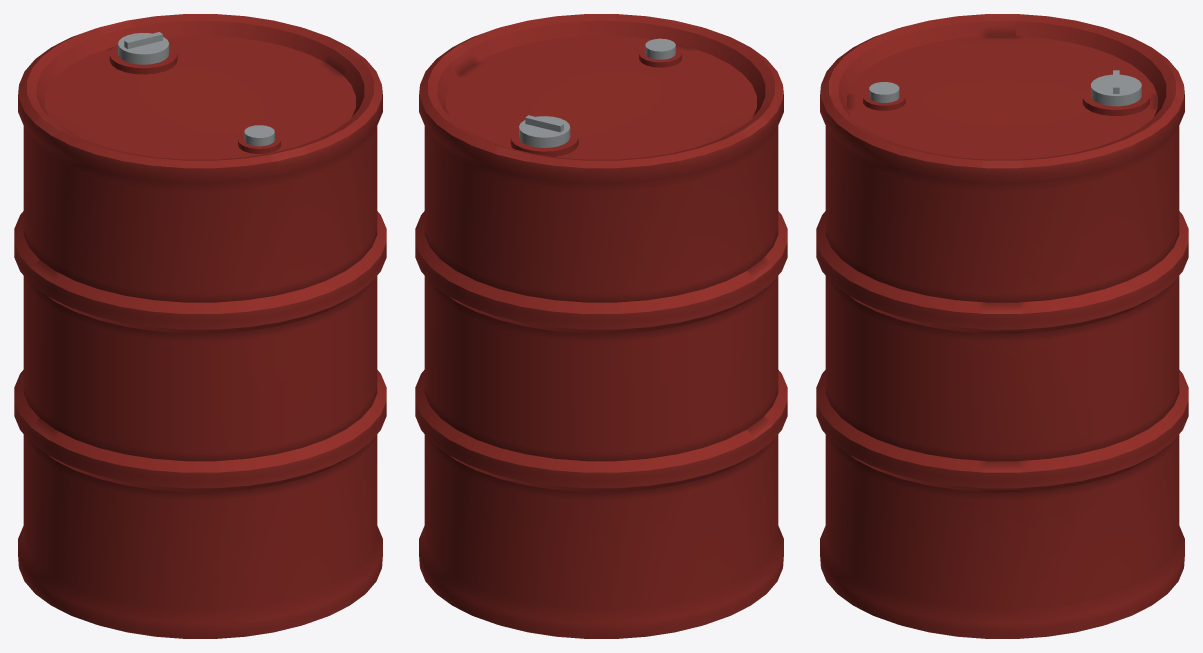
The model's file is body.obj.
The picture shows the model from 3 angles, left to right: view 1: azimuth 30°, elevation 25°; view 2: azimuth 150°, elevation 25°; view 3: azimuth 270°, elevation 25°; orthographic projection.
Visible parts, largest first — view 1: small_fuel_drum__body__shell, small_fuel_drum__body__bungs, small_fuel_drum__body__bung_flanges; view 2: small_fuel_drum__body__shell, small_fuel_drum__body__bungs, small_fuel_drum__body__bung_flanges; view 3: small_fuel_drum__body__shell, small_fuel_drum__body__bungs, small_fuel_drum__body__bung_flanges.
Boxes of the visible parts, x1=… form: small_fuel_drum__body__shell: x1=14, y1=14, x2=386, y2=638; small_fuel_drum__body__bungs: x1=118, y1=32, x2=274, y2=146; small_fuel_drum__body__bung_flanges: x1=109, y1=44, x2=177, y2=74; small_fuel_drum__body__shell: x1=415, y1=14, x2=787, y2=638; small_fuel_drum__body__bungs: x1=519, y1=38, x2=675, y2=147; small_fuel_drum__body__bung_flanges: x1=510, y1=128, x2=578, y2=156; small_fuel_drum__body__shell: x1=816, y1=14, x2=1188, y2=638; small_fuel_drum__body__bungs: x1=869, y1=70, x2=1141, y2=106; small_fuel_drum__body__bung_flanges: x1=1082, y1=86, x2=1149, y2=115.
Size of the model in its own units: 0.5315 by 0.7667 by 0.5315.
